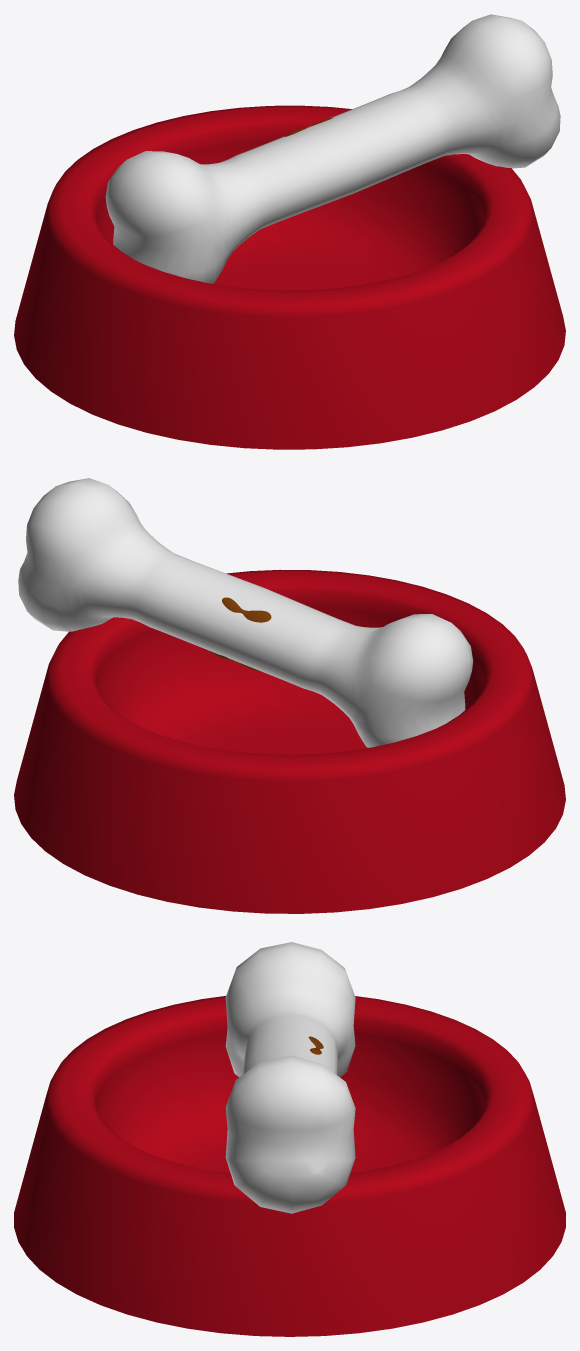
The model's file is food2.fbx.
The picture shows the model from 3 angles, top to bottom: view 1: azimuth 30°, elevation 25°; view 2: azimuth 150°, elevation 25°; view 3: azimuth 270°, elevation 25°; orthographic projection.
Visible parts, largest first — view 1: obj1, obj1.007; view 2: obj1, obj1.007, Cube.004; view 3: obj1, obj1.007.
Part boxes in pixels (x1,y1,x2,y2): obj1: (14, 105, 565, 449); obj1.007: (105, 14, 560, 283); obj1: (14, 569, 565, 913); obj1.007: (18, 478, 473, 747); Cube.004: (208, 597, 271, 671); obj1: (14, 996, 565, 1336); obj1.007: (225, 942, 355, 1213).
Size of the model in its own units: 272 by 137 by 260.
